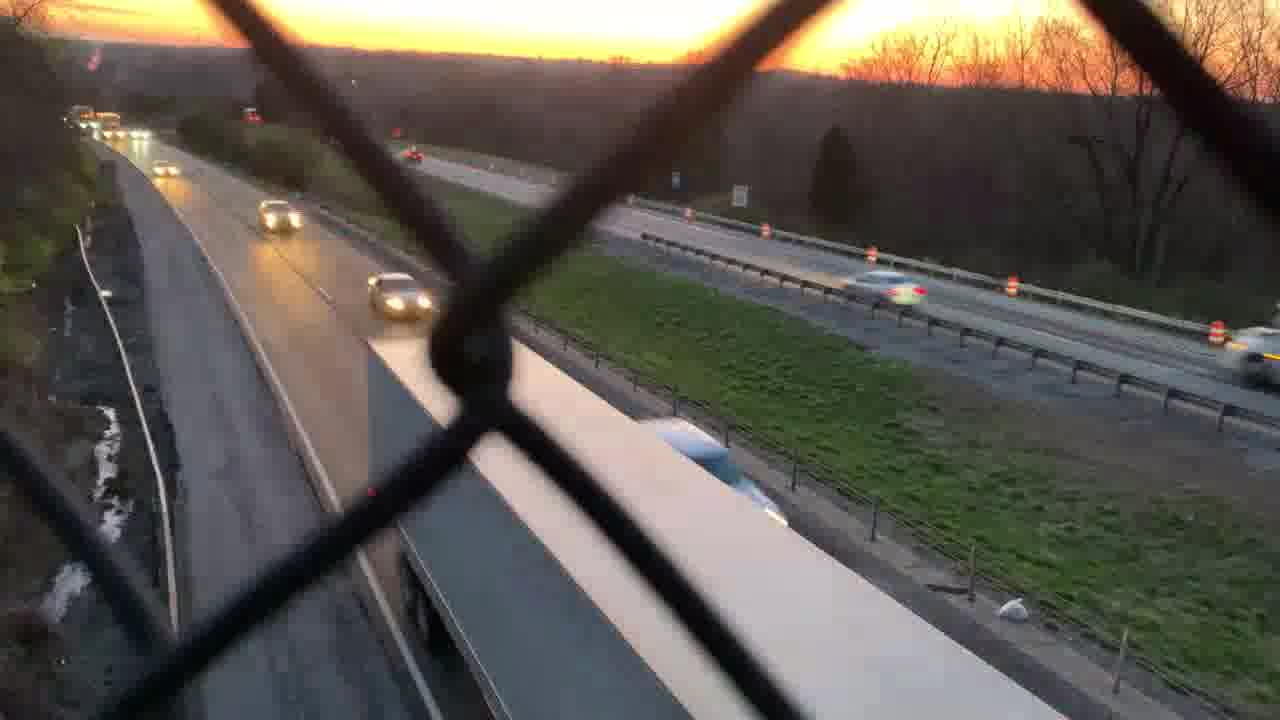heavyTruck: (368, 329, 800, 720)
smallCar: (844, 270, 931, 318), (369, 272, 434, 321)
